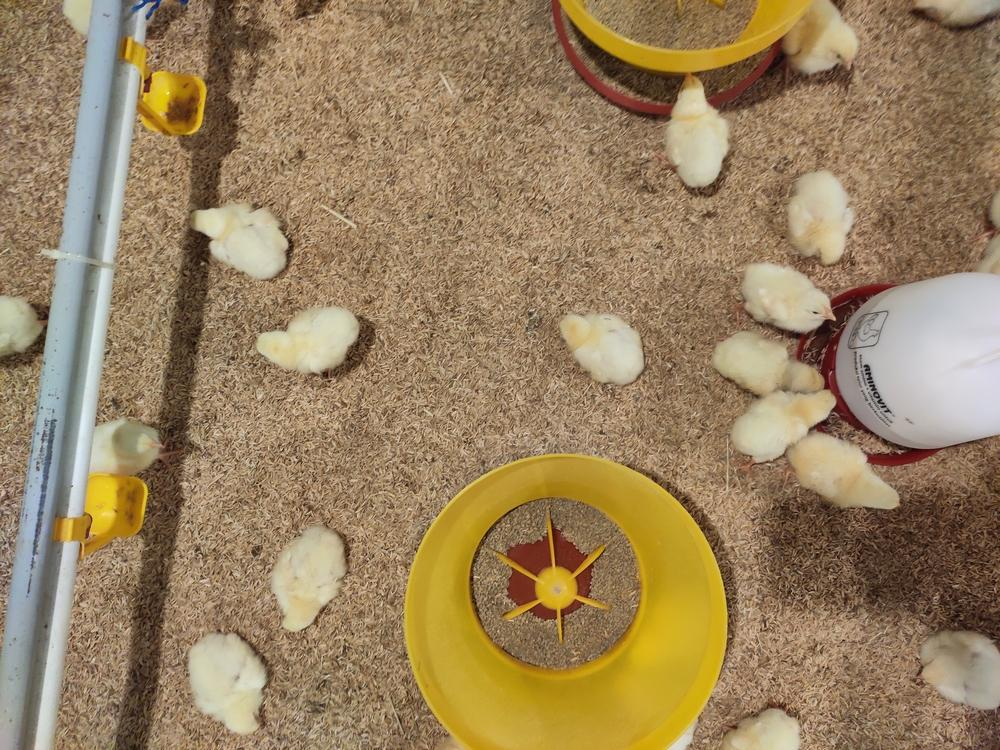Pollos: (246, 300, 365, 381), (273, 521, 348, 632), (190, 630, 270, 734), (915, 619, 1000, 716), (663, 70, 732, 189), (179, 203, 291, 276), (555, 306, 655, 387), (800, 436, 904, 513), (785, 165, 857, 263), (786, 0, 865, 87), (741, 265, 837, 332), (717, 337, 826, 388), (89, 413, 167, 479), (750, 387, 834, 439)
